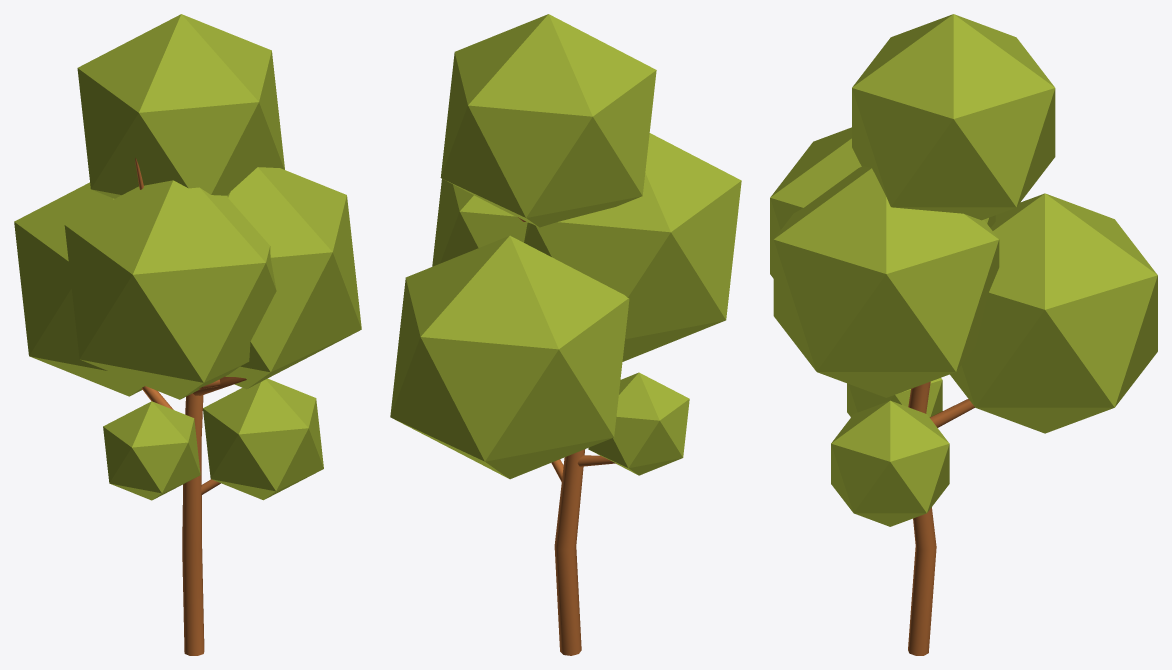
File: oakTreesVisual.glb
3 renders of one model, left to right at view 1: azimuth 30°, elevation 25°; view 2: azimuth 150°, elevation 25°; view 3: azimuth 270°, elevation 25°, orthographic. The views are drawn at different scales.
Parts seen in each view (by area): view 1: treeLeaves.007, treeLeaves.006, treeLeaves.009, treeLeaves.010, treeLeaves.008, treeLeaves.011, treeBody.012; view 2: treeLeaves.008, treeLeaves.006, treeLeaves.007, treeLeaves.011, treeBody.012, treeLeaves.009; view 3: treeLeaves.009, treeLeaves.008, treeLeaves.006, treeLeaves.010, treeLeaves.007, treeBody.012, treeLeaves.011.
Part boxes in pixels (left/top/right/bottom): treeLeaves.007: left=64, top=180, right=276, bottom=399; treeLeaves.006: left=77, top=14, right=284, bottom=198; treeLeaves.009: left=225, top=167, right=361, bottom=389; treeLeaves.010: left=203, top=378, right=323, bottom=500; treeLeaves.008: left=14, top=182, right=144, bottom=396; treeLeaves.011: left=103, top=401, right=200, bottom=500; treeBody.012: left=135, top=158, right=246, bottom=655; treeLeaves.008: left=390, top=235, right=629, bottom=479; treeLeaves.006: left=440, top=14, right=656, bottom=227; treeLeaves.007: left=524, top=133, right=741, bottom=361; treeLeaves.011: left=588, top=372, right=689, bottom=475; treeBody.012: left=518, top=217, right=615, bottom=655; treeLeaves.009: left=432, top=179, right=527, bottom=266; treeLeaves.009: left=773, top=166, right=999, bottom=397; treeLeaves.008: left=950, top=193, right=1157, bottom=433; treeLeaves.006: left=852, top=14, right=1055, bottom=220; treeLeaves.010: left=831, top=400, right=949, bottom=526; treeLeaves.007: left=770, top=127, right=995, bottom=278; treeBody.012: left=908, top=381, right=974, bottom=655; treeLeaves.011: left=847, top=378, right=942, bottom=417.
Size of the model in its own units: 3.74 by 8.31 by 4.56.
1 material, 1 textured.
